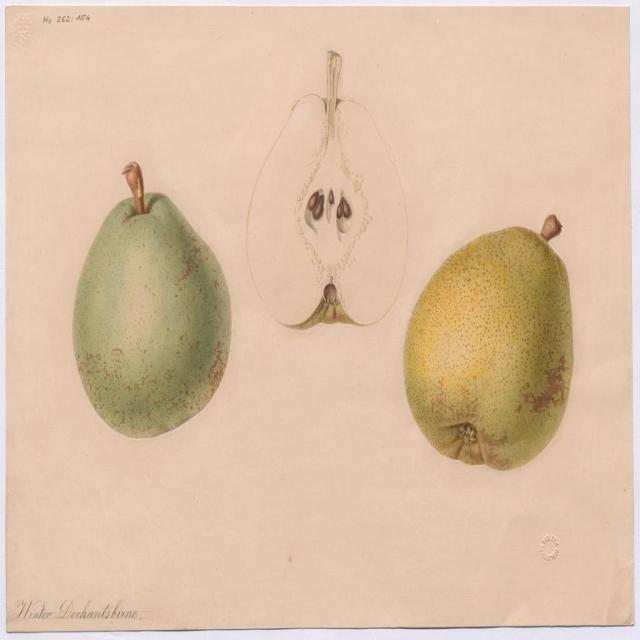pear: (398, 207, 574, 470), (70, 156, 232, 440), (241, 50, 406, 326)
